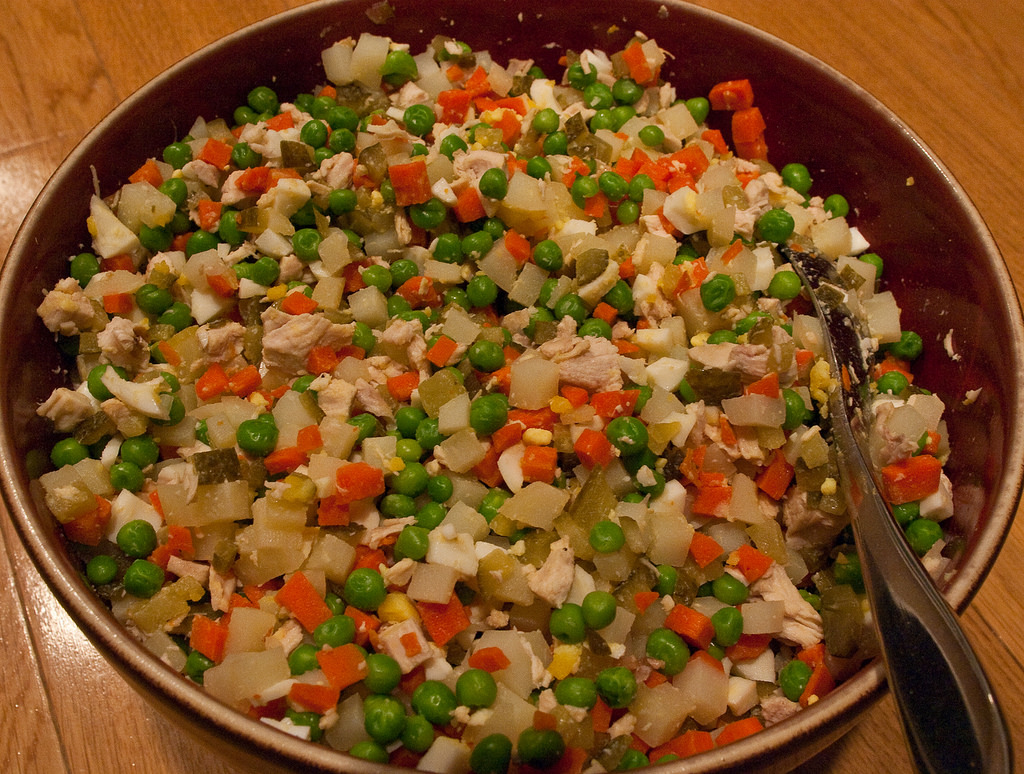boiled peas: (347, 404, 460, 520), (410, 203, 515, 308), (291, 91, 357, 168), (419, 665, 489, 728), (103, 437, 161, 488), (602, 172, 659, 222), (606, 409, 653, 455), (113, 516, 161, 555), (240, 414, 282, 456), (466, 392, 510, 432), (749, 208, 797, 244), (348, 574, 395, 610), (370, 697, 409, 740), (711, 604, 746, 650), (362, 655, 403, 692), (588, 516, 627, 551), (531, 234, 563, 276), (703, 274, 737, 310), (293, 227, 327, 262), (609, 76, 643, 110), (396, 525, 430, 555), (401, 105, 436, 134), (582, 601, 614, 628), (474, 343, 503, 372), (253, 260, 280, 288), (479, 174, 507, 196)
